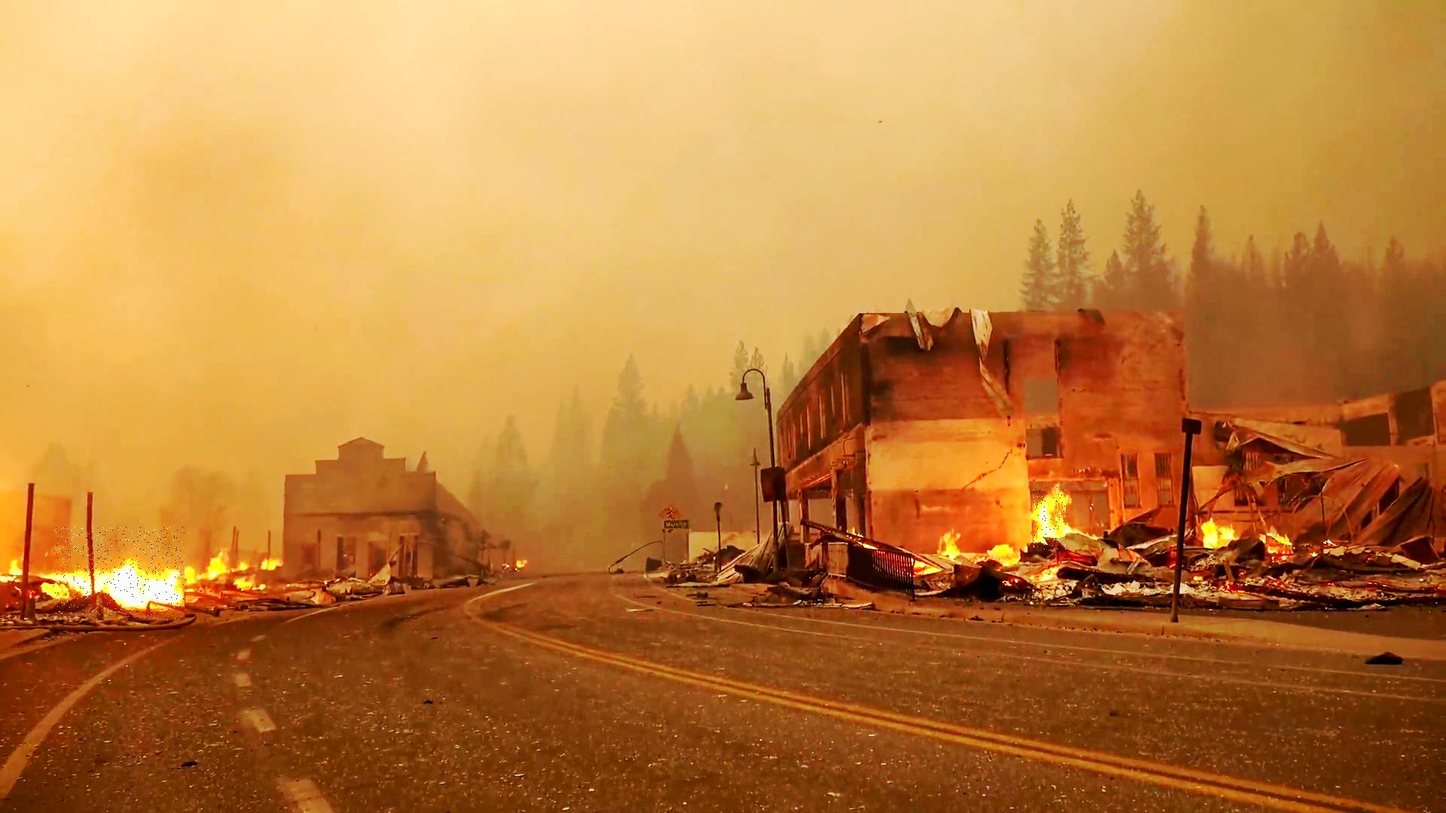fire: (54, 527, 185, 621), (1034, 484, 1068, 550)
